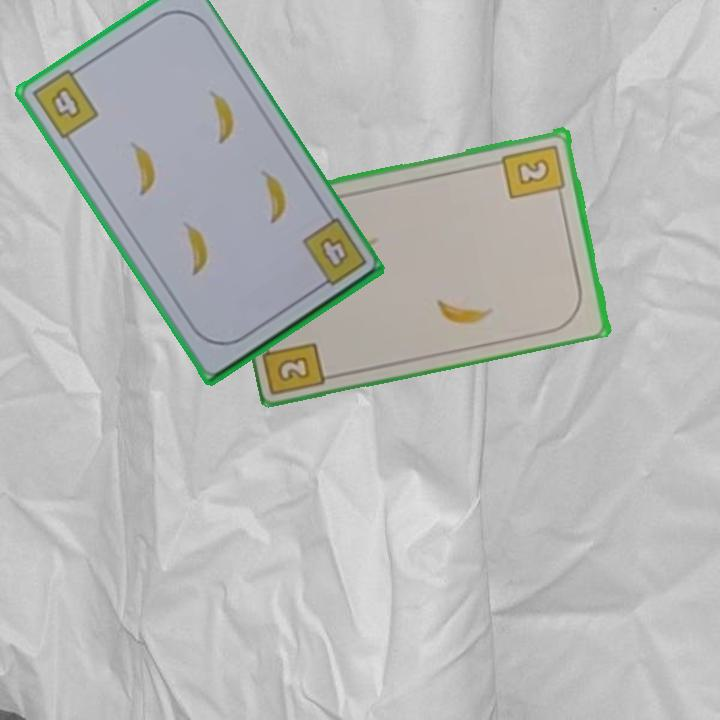2b: (260, 331, 331, 394), (499, 140, 569, 202)
4b: (28, 62, 102, 143), (298, 215, 370, 294)
